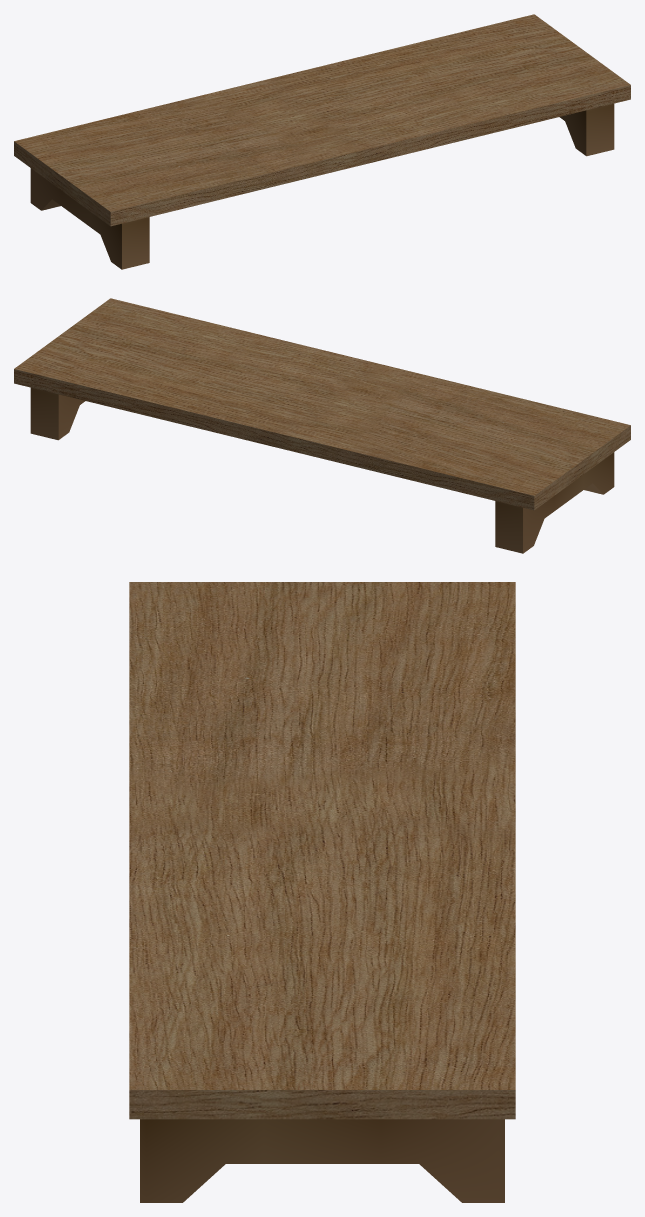
File: wooden_desk_monitor_raiser_stand.glb
The picture shows the model from 3 angles, top to bottom: view 1: azimuth 30°, elevation 25°; view 2: azimuth 150°, elevation 25°; view 3: azimuth 270°, elevation 25°; orthographic projection. The views are drawn at different scales.
Parts seen in each view (by area): view 1: Body1_4, Body1.001_1, Body2_0; view 2: Body1_4, Body1.001_1, Body2_0; view 3: Body1_4, Body2_0.
Boxes of the visible parts, x1,y1,x2,y2 form: Body1_4: (14,14,630,226); Body1.001_1: (30,168,149,269); Body2_0: (559,103,614,156); Body1_4: (14,298,630,510); Body1.001_1: (495,452,614,553); Body2_0: (30,387,85,440); Body1_4: (129,582,515,1119); Body2_0: (140,1119,504,1202).
Size of the model in its own units: 0.7112 by 0.0826 by 0.2286.
Materials: 1 (1 with a texture image).
